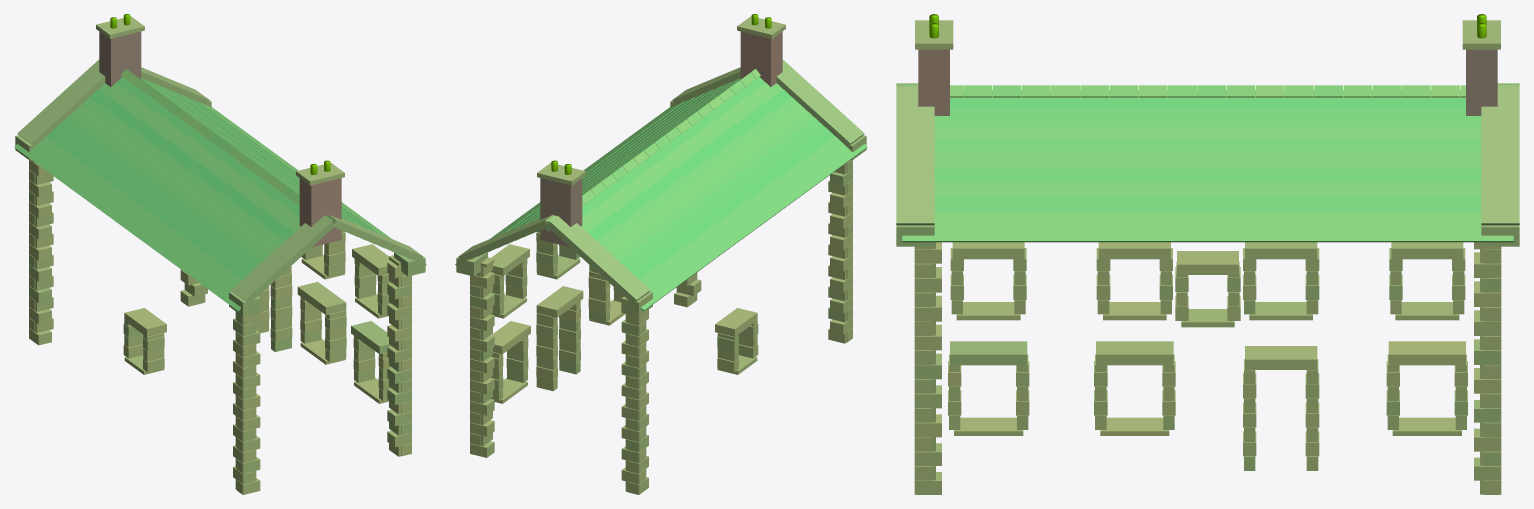
The model's file is SM_Bld_031_Stone.glb.
3 views of the same model, side by side, from view 1: azimuth 30°, elevation 25°; view 2: azimuth 150°, elevation 25°; view 3: azimuth 270°, elevation 25° (orthographic). The views are drawn at different scales.
Visible parts, largest first — view 1: SM_Bld_031_Stone; view 2: SM_Bld_031_Stone; view 3: SM_Bld_031_Stone.
Boxes of the visible parts, left/top/right/bottom form: SM_Bld_031_Stone: left=14, top=14, right=426, bottom=494; SM_Bld_031_Stone: left=455, top=14, right=867, bottom=494; SM_Bld_031_Stone: left=896, top=14, right=1519, bottom=494.
Size of the model in its own units: 5.61 by 8.67 by 11.72.
